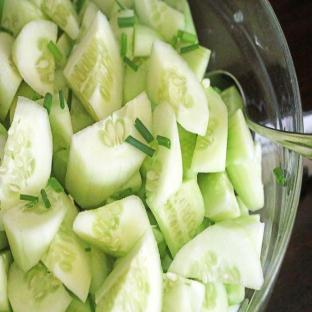Cucumber: (66, 93, 151, 208), (169, 221, 263, 289), (64, 12, 123, 120), (0, 98, 52, 214), (147, 40, 209, 135), (3, 186, 67, 271), (42, 193, 92, 301), (96, 230, 162, 311), (74, 196, 149, 256), (152, 179, 205, 256), (146, 102, 182, 210), (227, 109, 264, 210), (13, 20, 57, 95), (8, 262, 71, 311), (192, 88, 227, 172), (198, 172, 240, 221), (227, 159, 264, 210), (0, 33, 21, 121), (162, 273, 205, 311), (226, 109, 254, 167), (1, 0, 45, 36), (42, 0, 79, 39), (49, 94, 73, 153), (10, 81, 41, 124), (235, 215, 264, 257), (110, 10, 134, 59), (124, 58, 149, 104), (178, 124, 197, 179), (182, 46, 211, 81), (90, 247, 111, 295), (134, 24, 164, 57), (70, 94, 94, 133), (112, 171, 141, 199), (78, 1, 98, 40), (202, 283, 228, 311), (0, 251, 12, 311), (221, 86, 243, 116), (53, 150, 69, 187), (56, 33, 72, 68), (54, 68, 69, 99), (66, 294, 92, 311), (225, 284, 245, 305), (136, 176, 147, 208), (0, 123, 8, 165), (195, 218, 214, 235), (255, 141, 262, 179), (236, 196, 249, 216), (161, 250, 172, 272), (152, 226, 164, 244), (236, 215, 260, 222), (0, 231, 8, 250), (228, 304, 240, 311)
